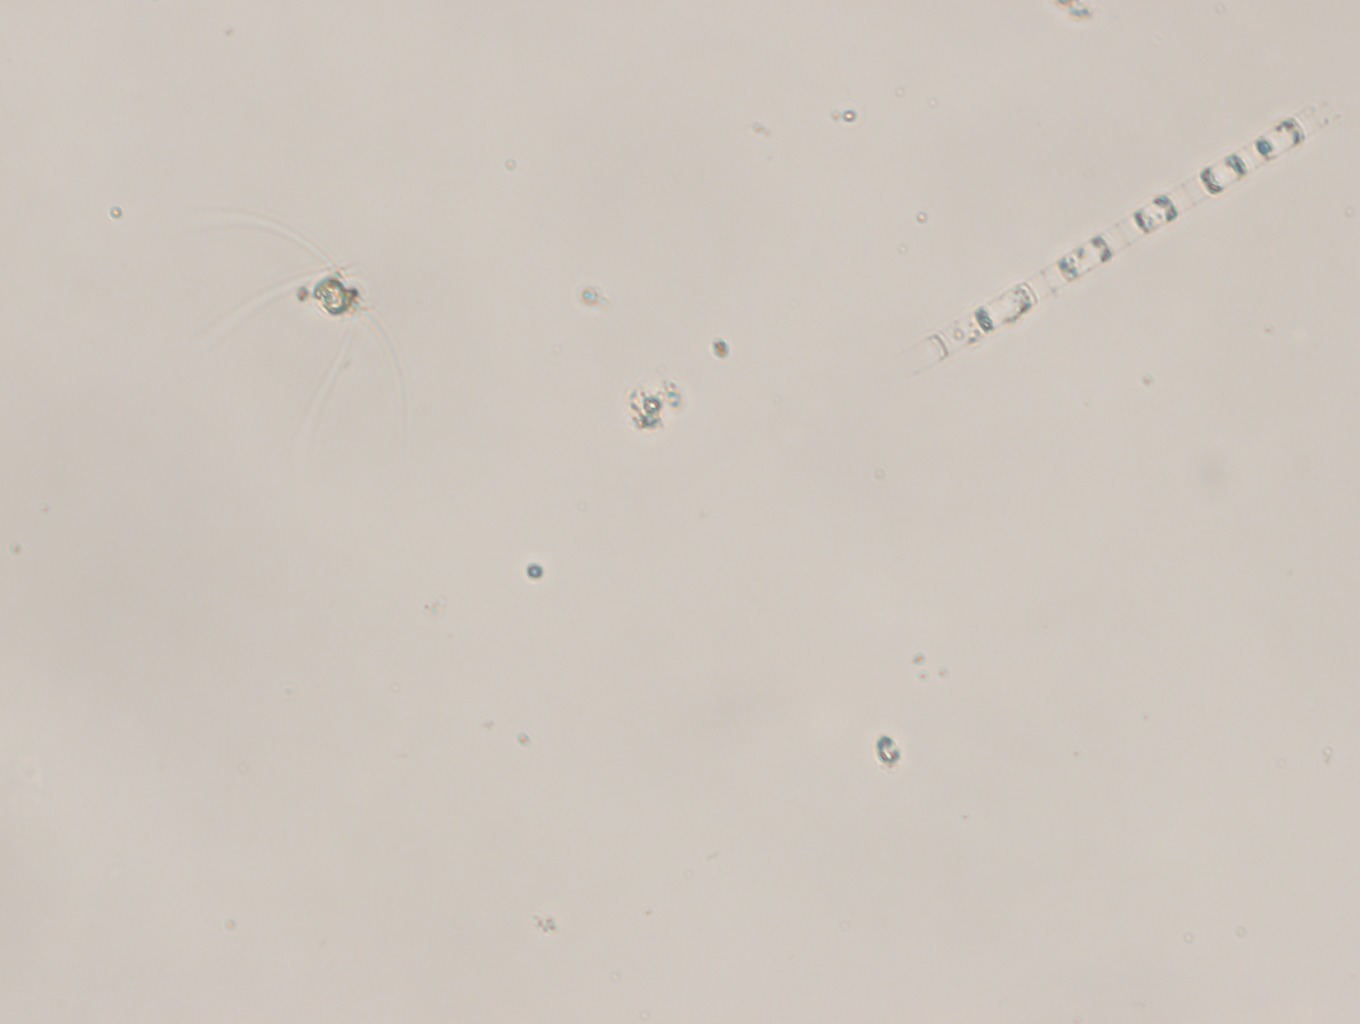chaetoceros: (172, 199, 423, 458)
skeletonema: (879, 98, 1344, 375)
